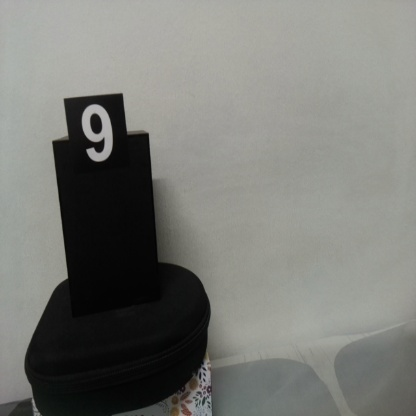id_9: (64, 97, 127, 182)
